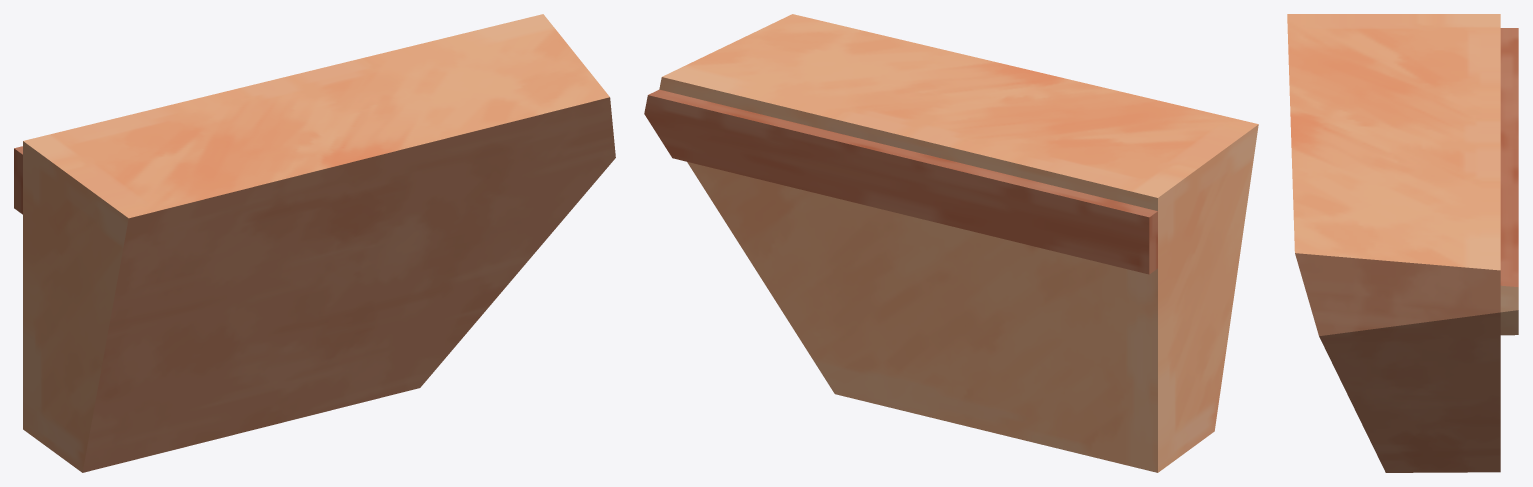
Rendered from divan_s01.fbx.
3 renders of one model, left to right at view 1: azimuth 30°, elevation 25°; view 2: azimuth 150°, elevation 25°; view 3: azimuth 270°, elevation 25°, orthographic. The views are drawn at different scales.
Parts seen in each view (by area): view 1: divan_s01; view 2: divan_s01; view 3: divan_s01.
Part boxes in pixels (box(x1,y1,x2,y2)): divan_s01: box(14, 14, 615, 472); divan_s01: box(644, 14, 1258, 472); divan_s01: box(1287, 14, 1518, 472).
Bounding box in the file's own units: 2.4 × 1.25 × 0.9009.
